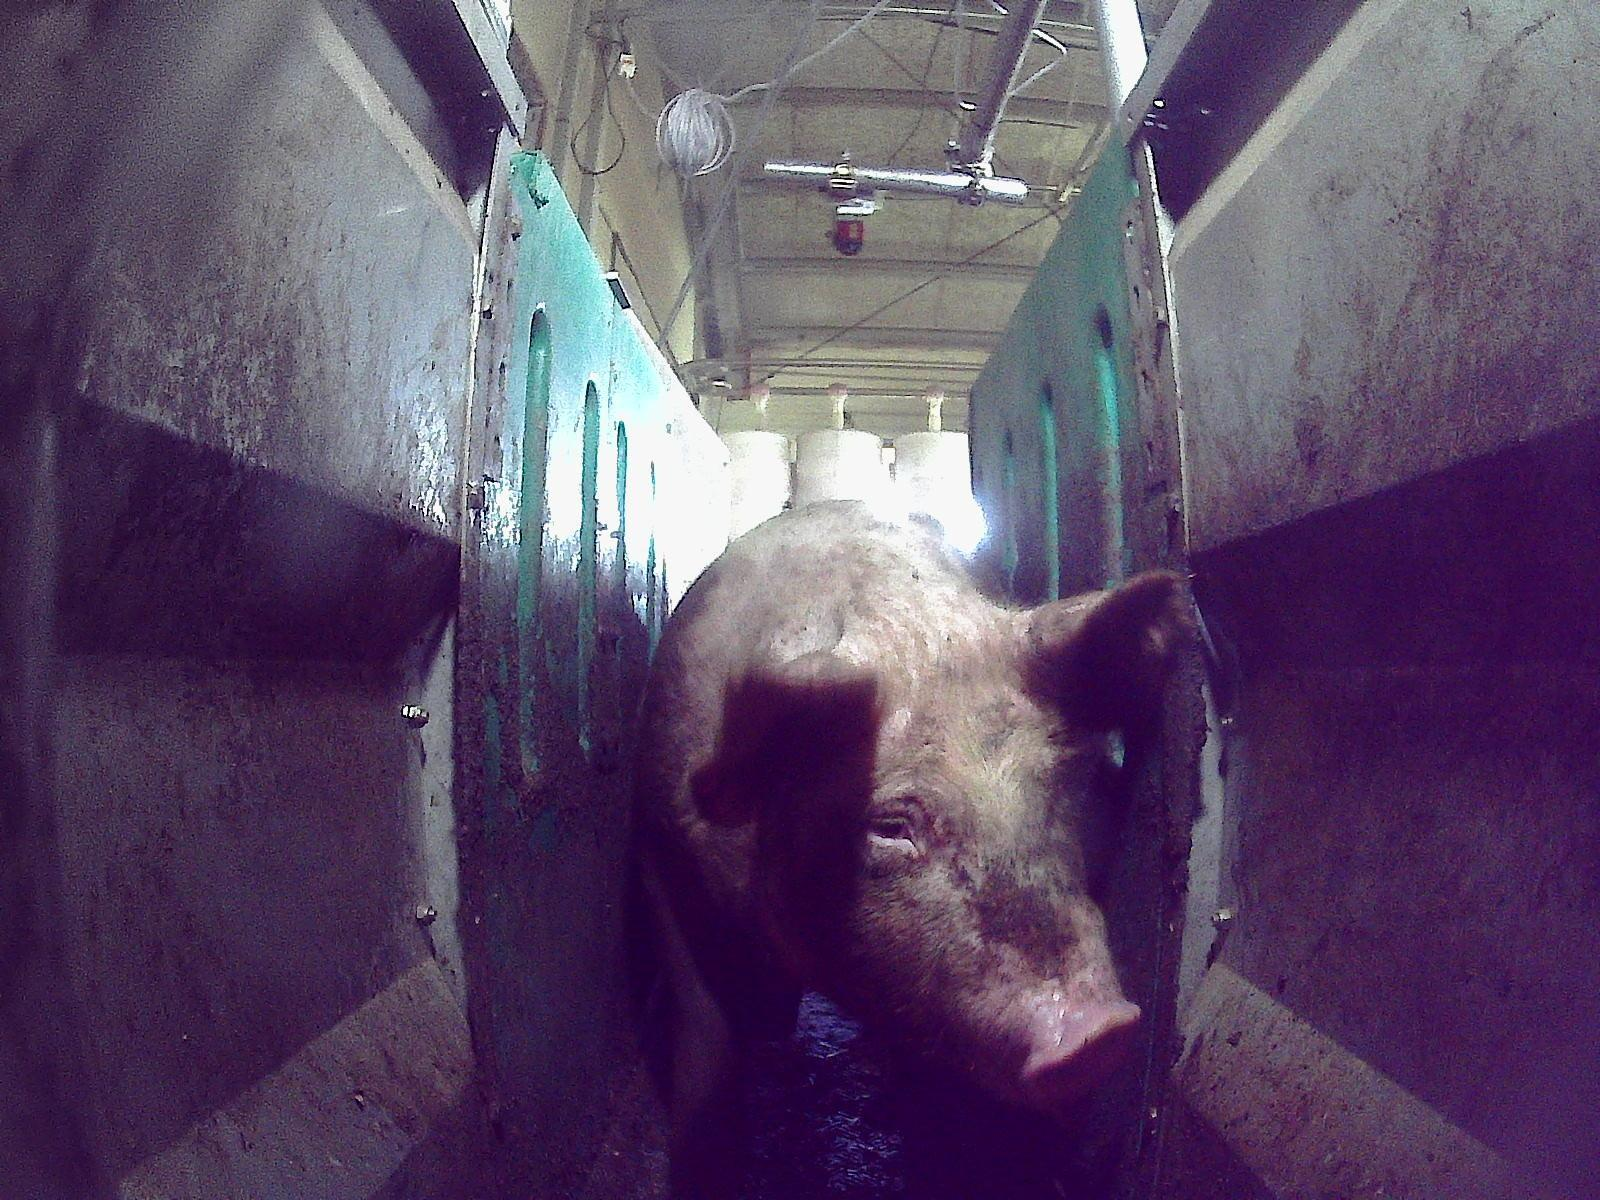Face: (733, 639, 1143, 1112)
